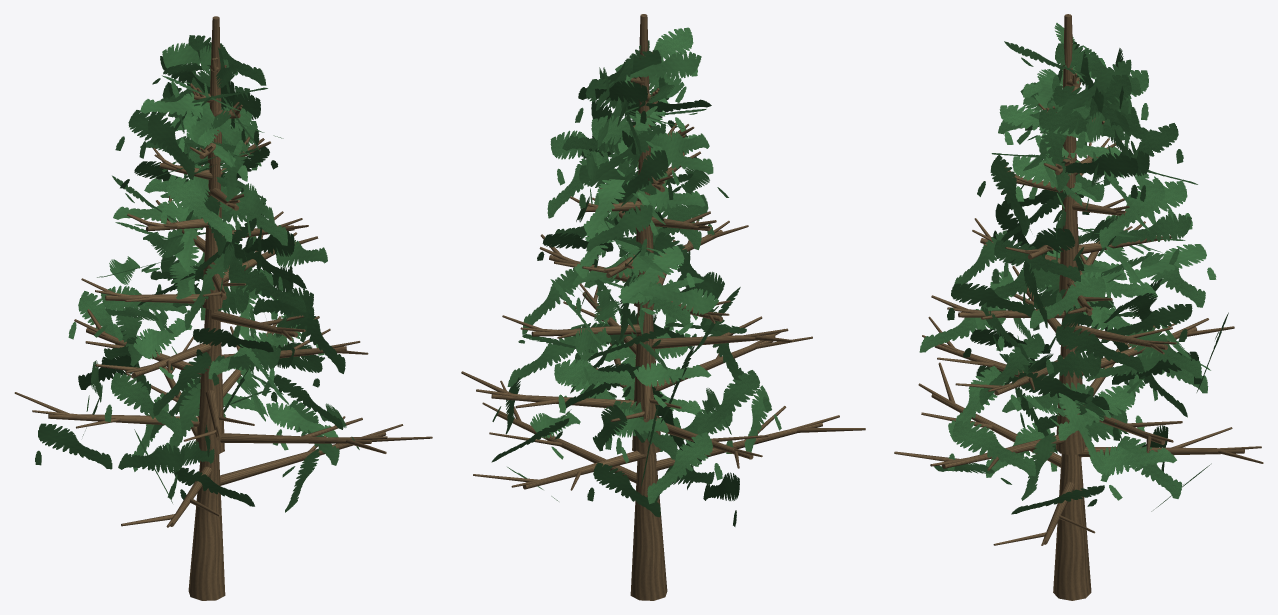
3 renders of one model, left to right at view 1: azimuth 30°, elevation 25°; view 2: azimuth 150°, elevation 25°; view 3: azimuth 270°, elevation 25°, orthographic.
Parts seen in each view (by area): view 1: pine-needle, pine-bark; view 2: pine-needle, pine-bark; view 3: pine-needle, pine-bark.
Part boxes in pixels (x1,y1,x2,y2): pine-needle: [35, 35, 359, 512]; pine-bark: [14, 16, 432, 600]; pine-needle: [491, 27, 781, 526]; pine-bark: [461, 14, 865, 600]; pine-needle: [919, 23, 1228, 514]; pine-bark: [894, 14, 1263, 600].
Bounding box in the file's own units: 6.16 × 10.01 × 5.77.
2 materials, 2 textured.
